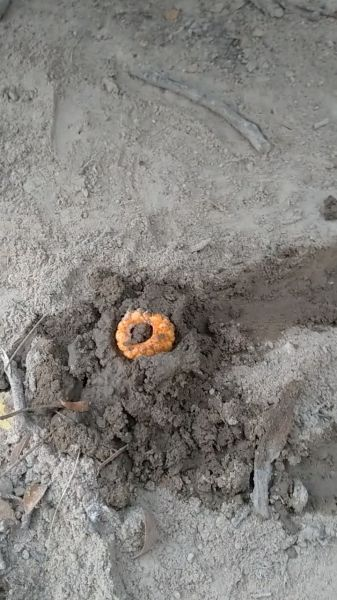eggs: (110, 302, 180, 360)
